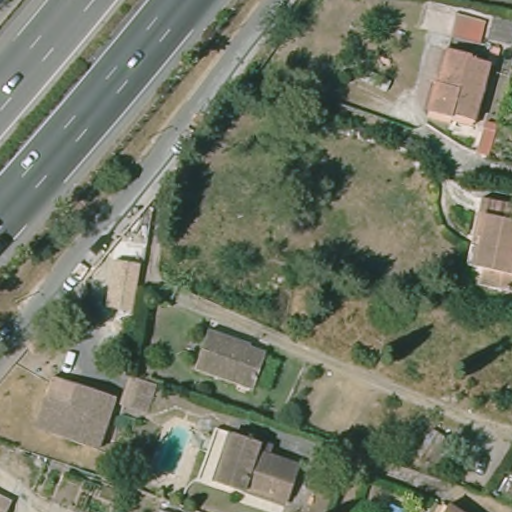pool: (154, 420, 188, 480)
